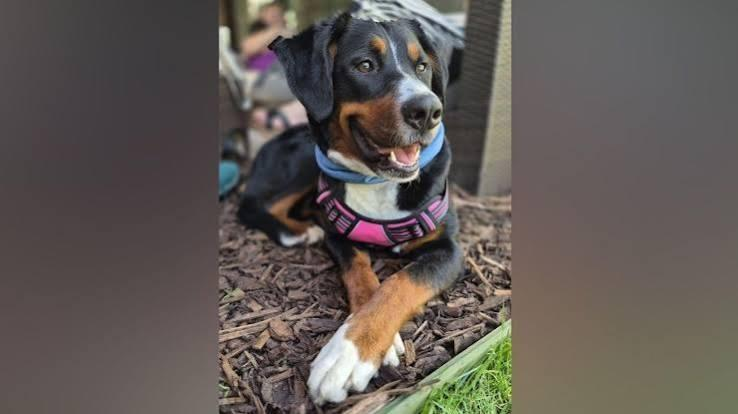adult_dog: (232, 5, 465, 407)
